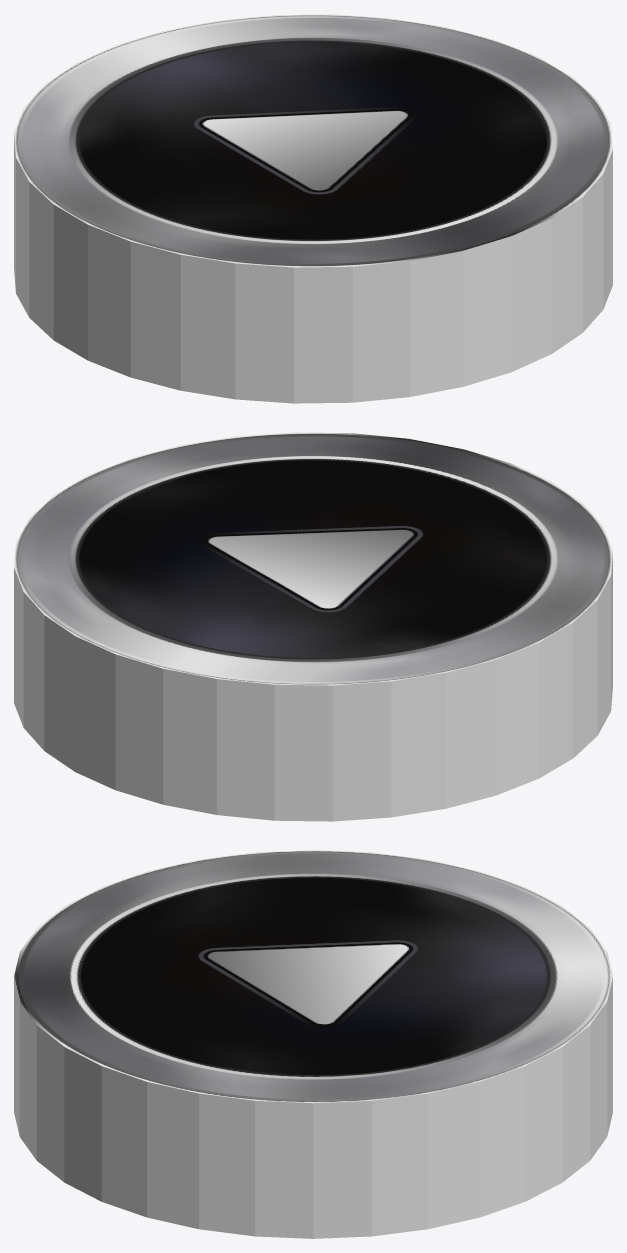
File: ButtonObject.fbx
3 renders of one model, top to bottom at view 1: azimuth 30°, elevation 25°; view 2: azimuth 150°, elevation 25°; view 3: azimuth 270°, elevation 25°, orthographic.
Visible parts, largest first — view 1: Cylinder; view 2: Cylinder; view 3: Cylinder.
Part boxes in pixels (bbox=[...]): Cylinder: bbox=[14, 14, 612, 403]; Cylinder: bbox=[14, 432, 612, 821]; Cylinder: bbox=[14, 850, 612, 1238].
Bounding box in the file's own units: 10 × 2.5 × 10.
